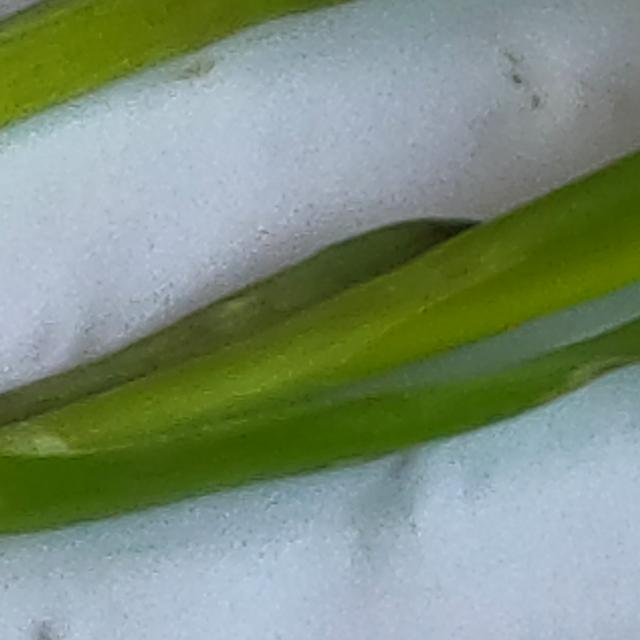green_onion: (0, 0, 640, 576)
